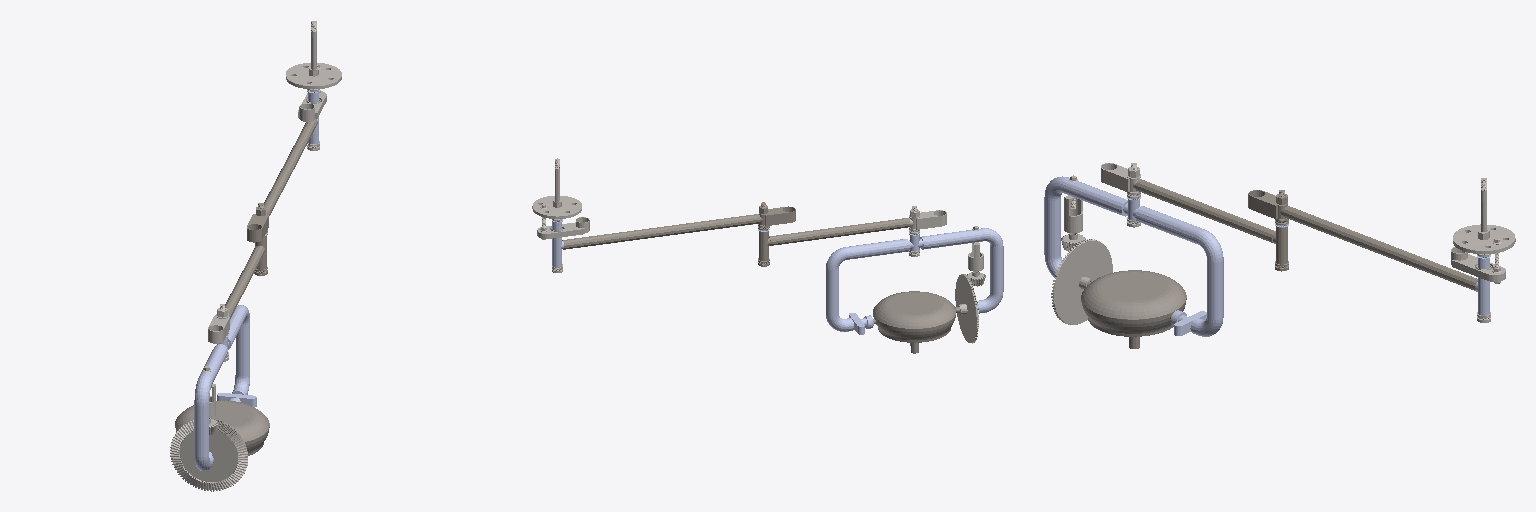
--- Facts derived from the render (not from the file) ---
Views: 3 orthographic renders of the robot side by side, from view 1: azimuth 30°, elevation 25°; view 2: azimuth 150°, elevation 25°; view 3: azimuth 270°, elevation 25°.
Robot: ot_model — 18 links, 17 joints (5 revolute, 12 fixed); root link world; default pose: every joint at zero.
Links seen in each view (by area): view 1: gimbal, crown, base_link, light, pipe2, pipe4, fixedset1, fixedset2; view 2: gimbal, light, pipe2, base_link, pipe4, crown, fixedset2, fixedset1; view 3: gimbal, light, crown, base_link, pipe2, pipe4, fixedset1, fixedset2, motorholder, pipe1.
Boxes of the visible links, bbox=[...] form: gimbal: bbox=[194, 305, 256, 470]; crown: bbox=[170, 419, 247, 491]; base_link: bbox=[286, 21, 341, 150]; light: bbox=[175, 400, 269, 455]; pipe2: bbox=[264, 119, 317, 215]; pipe4: bbox=[225, 246, 264, 318]; fixedset1: bbox=[247, 203, 268, 275]; fixedset2: bbox=[208, 304, 229, 361]; gimbal: bbox=[826, 228, 1003, 334]; light: bbox=[873, 291, 959, 353]; pipe2: bbox=[562, 214, 759, 249]; base_link: bbox=[532, 158, 589, 272]; pipe4: bbox=[769, 218, 909, 245]; crown: bbox=[955, 274, 978, 343]; fixedset2: bbox=[909, 206, 946, 256]; fixedset1: bbox=[758, 202, 795, 266]; gimbal: bbox=[1044, 176, 1223, 336]; light: bbox=[1081, 270, 1186, 348]; crown: bbox=[1051, 239, 1112, 324]; base_link: bbox=[1451, 178, 1515, 322]; pipe2: bbox=[1283, 206, 1477, 291]; pipe4: bbox=[1135, 179, 1275, 243]; fixedset1: bbox=[1248, 190, 1288, 271]; fixedset2: bbox=[1101, 163, 1140, 227]; motorholder: bbox=[1064, 175, 1082, 233]; pipe1: bbox=[1475, 258, 1489, 315].
Bounding box of the posed robot: 1.17 × 1.27 × 0.9033 m (x, y, z).
Meshes: 17 distinct files referenced, 17 mesh visuals loaded (17 binary STL).

robot.urdf — ot_model:
<?xml version="1.0" encoding="utf-8"?>
<!-- This URDF was automatically created by SolidWorks to URDF Exporter! Originally created by Stephen Brawner ([email redacted]) 
     Commit Version: 1.6.0-1-g15f4949  Build Version: 1.6.7594.29634
     For more information, please see http://wiki.ros.org/sw_urdf_exporter -->  
<robot
  name="ot_model">
  <link
    name="base_link">
    <inertial>
      <origin
        xyz="-1.9319 0.048235 -0.48431"
        rpy="0 0 0" />
      <mass
        value="0.53942" />
      <inertia
        ixx="0.0021749"
        ixy="-4.1073E-06"
        ixz="-0.00016657"
        iyy="0.0012304"
        iyz="-4.4453E-06"
        izz="0.002148" />
    </inertial>
    <visual>
      <origin
        xyz="0 0 0"
        rpy="0 0 0" />
      <geometry>
        <mesh
          filename="package://OTEditedwithCam-URDF/meshes/base_link.STL" />
        <!-- <cylinder radius="0.0165" length="0.42"/> -->
      </geometry>
      <material
        name="">
        <color
          rgba="0.77647 0.75686 0.73725 1" />
      </material>
    </visual>
    <collision>
      <origin
        xyz="0 0 0"
        rpy="0 0 0" />
      <geometry>
        <mesh
          filename="package://OTEditedwithCam-URDF/meshes/base_link.STL" />
      </geometry>
    </collision>
  </link>
  <link
    name="pipe1">
    <inertial>
      <origin
        xyz="0.002116 -8.3286E-08 0.085639"
        rpy="0 0 0" />
      <mass
        value="0.036515" />
      <inertia
        ixx="8.7543E-05"
        ixy="4.8938E-11"
        ixz="-7.2263E-07"
        iyy="8.9539E-05"
        iyz="7.2658E-11"
        izz="1.1438E-05" />
    </inertial>
    <visual>
      <origin
        xyz="0 0 0"
        rpy="0 0 0" />
      <geometry>
        <mesh
          filename="package://OTEditedwithCam-URDF/meshes/pipe1.STL" />
      </geometry>
      <material
        name="">
        <color
          rgba="0.79216 0.81961 0.93333 1" />
      </material>
    </visual>
    <collision>
      <origin
        xyz="0 0 0"
        rpy="0 0 0" />
      <geometry>
        <mesh
          filename="package://OTEditedwithCam-URDF/meshes/pipe1.STL" />
      </geometry>
    </collision>
  </link>
  <joint
    name="base_pipe1"
    type="revolute">
    <origin
      xyz="-1.9294 0.48153 0.0543"
      rpy="0 0 2.3113" />
    <parent
      link="base_link" />
    <child
      link="pipe1" />
    <axis
      xyz="0 0 1" />
    <limit
      lower="-5"
      upper="5"
      effort="100"
      velocity="0" />
  </joint>
  <link
    name="gear1">
    <inertial>
      <origin
        xyz="-6.6327E-12 2.4896E-12 0.00080015"
        rpy="0 0 0" />
      <mass
        value="0.0049482" />
      <inertia
        ixx="7.1988E-07"
        ixy="4.4999E-22"
        ixz="9.4329E-23"
        iyy="7.1988E-07"
        iyz="-2.2089E-22"
        izz="1.1757E-06" />
    </inertial>
    <visual>
      <origin
        xyz="0 0 0"
        rpy="0 0 0" />
      <geometry>
        <mesh
          filename="package://OTEditedwithCam-URDF/meshes/gear1.STL" />
      </geometry>
      <material
        name="">
        <color
          rgba="0.79216 0.81961 0.93333 1" />
      </material>
    </visual>
    <collision>
      <origin
        xyz="0 0 0"
        rpy="0 0 0" />
      <geometry>
        <mesh
          filename="package://OTEditedwithCam-URDF/meshes/gear1.STL" />
      </geometry>
    </collision>
  </link>
  <joint
    name="pipe1_gear1"
    type="fixed">
    <origin
      xyz="0 0 0"
      rpy="3.1416 0 1.2117" />
    <parent
      link="pipe1" />
    <child
      link="gear1" />
    <axis
      xyz="0 0 0" />
  </joint>
  <link
    name="pipe2">
    <inertial>
      <origin
        xyz="1.8463E-13 7.2431E-13 0.35"
        rpy="0 0 0" />
      <mass
        value="0.14074" />
      <inertia
        ixx="0.0057651"
        ixy="-9.2157E-19"
        ixz="2.7889E-15"
        iyy="0.0057651"
        iyz="1.1277E-14"
        izz="3.6171E-05" />
    </inertial>
    <visual>
      <origin
        xyz="0 0 0"
        rpy="0 0 0" />
      <geometry>
        <mesh
          filename="package://OTEditedwithCam-URDF/meshes/pipe2.STL" />
      </geometry>
      <material
        name="">
        <color
          rgba="0.64706 0.61961 0.58824 1" />
      </material>
    </visual>
    <collision>
      <origin
        xyz="0 0 0"
        rpy="0 0 0" />
      <geometry>
        <mesh
          filename="package://OTEditedwithCam-URDF/meshes/pipe2.STL" />
      </geometry>
    </collision>
  </link>
  <joint
    name="pipe1_pipe2"
    type="fixed">
    <origin
      xyz="0.71934 0 0.095"
      rpy="-1.5708 -1.3246 1.5708" />
    <parent
      link="pipe1" />
    <child
      link="pipe2" />
    <axis
      xyz="0 0 0" />
  </joint>
  <link
    name="fixedset1">
    <inertial>
      <origin
        xyz="-0.025184 -1.1049E-07 -0.0015356"
        rpy="0 0 0" />
      <mass
        value="0.25958" />
      <inertia
        ixx="0.00032322"
        ixy="-2.2165E-10"
        ixz="-6.2789E-06"
        iyy="0.00045517"
        iyz="2.8979E-09"
        izz="0.00021021" />
    </inertial>
    <visual>
      <origin
        xyz="0 0 0"
        rpy="0 0 0" />
      <geometry>
        <mesh
          filename="package://OTEditedwithCam-URDF/meshes/fixedset1.STL" />
      </geometry>
      <material
        name="">
        <color
          rgba="0.64706 0.61961 0.58824 1" />
      </material>
    </visual>
    <collision>
      <origin
        xyz="0 0 0"
        rpy="0 0 0" />
      <geometry>
        <mesh
          filename="package://OTEditedwithCam-URDF/meshes/fixedset1.STL" />
      </geometry>
    </collision>
  </link>
  <joint
    name="pipe2_fixedset1"
    type="fixed">
    <origin
      xyz="0.019541 -0.0049099 -0.018607"
      rpy="1.568 -1.5708 -1.8142" />
    <parent
      link="pipe2" />
    <child
      link="fixedset1" />
    <axis
      xyz="0 0 0" />
  </joint>
  <link
    name="pipe3">
    <inertial>
      <origin
        xyz="0.0015452 5.3889E-09 -0.05494"
        rpy="0 0 0" />
      <mass
        value="0.080239" />
      <inertia
        ixx="8.5758E-05"
        ixy="4.5267E-12"
        ixz="-1.1269E-06"
        iyy="8.8667E-05"
        iyz="-5.5402E-11"
        izz="1.7543E-05" />
    </inertial>
    <visual>
      <origin
        xyz="0 0 0"
        rpy="0 0 0" />
      <geometry>
        <mesh
          filename="package://OTEditedwithCam-URDF/meshes/pipe3.STL" />
      </geometry>
      <material
        name="">
        <color
          rgba="0.64706 0.61961 0.58824 1" />
      </material>
    </visual>
    <collision>
      <origin
        xyz="0 0 0"
        rpy="0 0 0" />
      <geometry>
        <mesh
          filename="package://OTEditedwithCam-URDF/meshes/pipe3.STL" />
      </geometry>
    </collision>
  </link>
  <joint
    name="fixedset1_pipe3"
    type="revolute">
    <origin
      xyz="0 0 -0.024"
      rpy="0 0 -3.1412" />
    <parent
      link="fixedset1" />
    <child
      link="pipe3" />
    <axis
      xyz="0 0 1" />
    <limit
      lower="-5"
      upper="5"
      effort="100"
      velocity="0" />
  </joint>
  <link
    name="gear2">
    <inertial>
      <origin
        xyz="-4.4409E-16 -3.3307E-16 0.00080015"
        rpy="0 0 0" />
      <mass
        value="0.0049482" />
      <inertia
        ixx="7.1988E-07"
        ixy="4.7646E-22"
        ixz="-2.9163E-22"
        iyy="7.1988E-07"
        iyz="-6.6404E-22"
        izz="1.1757E-06" />
    </inertial>
    <visual>
      <origin
        xyz="0 0 0"
        rpy="0 0 0" />
      <geometry>
        <mesh
          filename="package://OTEditedwithCam-URDF/meshes/gear2.STL" />
      </geometry>
      <material
        name="">
        <color
          rgba="0.79216 0.81961 0.93333 1" />
      </material>
    </visual>
    <collision>
      <origin
        xyz="0 0 0"
        rpy="0 0 0" />
      <geometry>
        <mesh
          filename="package://OTEditedwithCam-URDF/meshes/gear2.STL" />
      </geometry>
    </collision>
  </link>
  <joint
    name="pipe3_gear2"
    type="fixed">
    <origin
      xyz="0 0 0"
      rpy="0 0 2.8353" />
    <parent
      link="pipe3" />
    <child
      link="gear2" />
    <axis
      xyz="0 0 0" />
  </joint>
  <link
    name="pipe4">
    <inertial>
      <origin
        xyz="3.5527E-15 1.6931E-15 0.25"
        rpy="0 0 0" />
      <mass
        value="0.10053" />
      <inertia
        ixx="0.0021073"
        ixy="-3.5237E-19"
        ixz="-2.6394E-17"
        iyy="0.0021073"
        iyz="-1.2634E-17"
        izz="2.5836E-05" />
    </inertial>
    <visual>
      <origin
        xyz="0 0 0"
        rpy="0 0 0" />
      <geometry>
        <mesh
          filename="package://OTEditedwithCam-URDF/meshes/pipe4.STL" />
      </geometry>
      <material
        name="">
        <color
          rgba="0.64706 0.61961 0.58824 1" />
      </material>
    </visual>
    <collision>
      <origin
        xyz="0 0 0"
        rpy="0 0 0" />
      <geometry>
        <mesh
          filename="package://OTEditedwithCam-URDF/meshes/pipe4.STL" />
      </geometry>
    </collision>
  </link>
  <joint
    name="pipe3_pipe4"
    type="fixed">
    <origin
      xyz="0.52 0 -0.045851"
      rpy="-1.5708 -0.2902 1.5708" />
    <parent
      link="pipe3" />
    <child
      link="pipe4" />
    <axis
      xyz="0 0 0" />
  </joint>
  <link
    name="fixedset2">
    <inertial>
      <origin
        xyz="0.012423 0.022975 -0.012419"
        rpy="0 0 0" />
      <mass
        value="0.25029" />
      <inertia
        ixx="0.00029389"
        ixy="-5.5206E-05"
        ixz="2.9847E-06"
        iyy="0.00022164"
        iyz="5.5266E-06"
        izz="0.00021029" />
    </inertial>
    <visual>
      <origin
        xyz="0 0 0"
        rpy="0 0 0" />
      <geometry>
        <mesh
          filename="package://OTEditedwithCam-URDF/meshes/fixedset2.STL" />
      </geometry>
      <material
        name="">
        <color
          rgba="0.77647 0.75686 0.73725 1" />
      </material>
    </visual>
    <collision>
      <origin
        xyz="0 0 0"
        rpy="0 0 0" />
      <geometry>
        <mesh
          filename="package://OTEditedwithCam-URDF/meshes/fixedset2.STL" />
      </geometry>
    </collision>
  </link>
  <joint
    name="pipe4_fixedset2"
    type="fixed">
    <origin
      xyz="0 0 -0.02"
      rpy="-1.5708 0.49569 -2.8514" />
    <parent
      link="pipe4" />
    <child
      link="fixedset2" />
    <axis
      xyz="0 0 -1" />
    <limit
      lower="-5"
      upper="5"
      effort="100"
      velocity="0" />
  </joint>
  <link
    name="pipe5">
    <inertial>
      <origin
        xyz="-5.7425E-08 -1.9798E-08 0.033278"
        rpy="0 0 0" />
      <mass
        value="0.017945" />
      <inertia
        ixx="6.984E-06"
        ixy="6.7418E-11"
        ixz="7.7363E-11"
        iyy="1.134E-05"
        iyz="1.985E-11"
        izz="8.9877E-06" />
    </inertial>
    <visual>
      <origin
        xyz="0 0 0"
        rpy="0 0 0" />
      <geometry>
        <mesh
          filename="package://OTEditedwithCam-URDF/meshes/pipe5.STL" />
      </geometry>
      <material
        name="">
        <color
          rgba="0.79216 0.81961 0.93333 1" />
      </material>
    </visual>
    <collision>
      <origin
        xyz="0 0 0"
        rpy="0 0 0" />
      <geometry>
        <mesh
          filename="package://OTEditedwithCam-URDF/meshes/pipe5.STL" />
      </geometry>
    </collision>
  </link>
  <joint
    name="fixedset2_pipe5"
    type="revolute">
    <origin
      xyz="0 0 -0.044149"
      rpy="3.1416 0 1.0807" />
    <parent
      link="fixedset2" />
    <child
      link="pipe5" />
    <axis
      xyz="0 0 1" />
    <limit
      lower="-5"
      upper="5"
      effort="100"
      velocity="0" />
  </joint>
  <link
    name="gear3">
    <inertial>
      <origin
        xyz="2.2204E-16 0 0.00080015"
        rpy="0 0 0" />
      <mass
        value="0.0049482" />
      <inertia
        ixx="7.1988E-07"
        ixy="-8.6523E-22"
        ixz="1.0427E-22"
        iyy="7.1988E-07"
        iyz="-1.2599E-21"
        izz="1.1757E-06" />
    </inertial>
    <visual>
      <origin
        xyz="0 0 0"
        rpy="0 0 0" />
      <geometry>
        <mesh
          filename="package://OTEditedwithCam-URDF/meshes/gear3.STL" />
      </geometry>
      <material
        name="">
        <color
          rgba="0.79216 0.81961 0.93333 1" />
      </material>
    </visual>
    <collision>
      <origin
        xyz="0 0 0"
        rpy="0 0 0" />
      <geometry>
        <mesh
          filename="package://OTEditedwithCam-URDF/meshes/gear3.STL" />
      </geometry>
    </collision>
  </link>
  <joint
    name="pipe5_gear3"
    type="fixed">
    <origin
      xyz="0 0 0"
      rpy="3.1416 0 -0.71066" />
    <parent
      link="pipe5" />
    <child
      link="gear3" />
    <axis
      xyz="0 0 0" />
  </joint>
  <link
    name="gimbal">
    <inertial>
      <origin
        xyz="-0.0018248 -0.10577 2.455E-07"
        rpy="0 0 0" />
      <mass
        value="1.1121" />
      <inertia
        ixx="0.010599"
        ixy="1.7429E-05"
        ixz="1.3832E-08"
        iyy="0.0074451"
        iyz="1.3488E-08"
        izz="0.017492" />
    </inertial>
    <visual>
      <origin
        xyz="0 0 0"
        rpy="0 0 0" />
      <geometry>
        <mesh
          filename="package://OTEditedwithCam-URDF/meshes/gimbal.STL" />
      </geometry>
      <material
        name="">
        <color
          rgba="0.79216 0.81961 0.93333 1" />
      </material>
    </visual>
    <collision>
      <origin
        xyz="0 0 0"
        rpy="0 0 0" />
      <geometry>
        <mesh
          filename="package://OTEditedwithCam-URDF/meshes/gimbal.STL" />
      </geometry>
    </collision>
  </link>
  <joint
    name="pipe5_gimbal"
    type="fixed">
    <origin
      xyz="-0.025 0 0.04"
      rpy="-1.5708 0 -3.1416" />
    <parent
      link="pipe5" />
    <child
      link="gimbal" />
    <axis
      xyz="0 0 0" />
  </joint>
  <link
    name="motorholder">
    <inertial>
      <origin
        xyz="0.074036 1.5995E-10 0"
        rpy="0 0 0" />
      <mass
        value="0.069394" />
      <inertia
        ixx="3.0567E-05"
        ixy="3.5192E-13"
        ixz="-6.305E-22"
        iyy="7.4186E-05"
        iyz="2.5797E-06"
        izz="7.6647E-05" />
    </inertial>
    <visual>
      <origin
        xyz="0 0 0"
        rpy="0 0 0" />
      <geometry>
        <mesh
          filename="package://OTEditedwithCam-URDF/meshes/motorholder.STL" />
      </geometry>
      <material
        name="">
        <color
          rgba="0.77647 0.75686 0.73725 1" />
      </material>
    </visual>
    <collision>
      <origin
        xyz="0 0 0"
        rpy="0 0 0" />
      <geometry>
        <mesh
          filename="package://OTEditedwithCam-URDF/meshes/motorholder.STL" />
      </geometry>
    </collision>
  </link>
  <joint
    name="gimbal_motorholder"
    type="fixed">
    <origin
      xyz="-0.245 0 0"
      rpy="2.2555 0 -1.5708" />
    <parent
      link="gimbal" />
    <child
      link="motorholder" />
    <axis
      xyz="-1 0 0" />
  </joint>
  <link
    name="pinion">
    <inertial>
      <origin
        xyz="0.026639 6.9612E-11 -2.7992E-10"
        rpy="0 0 0" />
      <mass
        value="0.061916" />
      <inertia
        ixx="2.5323E-05"
        ixy="-1.1125E-13"
        ixz="-6.1651E-14"
        iyy="1.7943E-05"
        iyz="-1.0817E-13"
        izz="1.7943E-05" />
    </inertial>
    <visual>
      <origin
        xyz="0 0 0"
        rpy="0 0 0" />
      <geometry>
        <mesh
          filename="package://OTEditedwithCam-URDF/meshes/pinion.STL" />
      </geometry>
      <material
        name="">
        <color
          rgba="0.77647 0.75686 0.73725 1" />
      </material>
    </visual>
    <collision>
      <origin
        xyz="0 0 0"
        rpy="0 0 0" />
      <geometry>
        <mesh
          filename="package://OTEditedwithCam-URDF/meshes/pinion.STL" />
      </geometry>
    </collision>
  </link>
  <joint
    name="motorholder_pinion"
    type="revolute">
    <origin
      xyz="0.135 0 0"
      rpy="2.4286 0 0" />
    <parent
      link="motorholder" />
    <child
      link="pinion" />
    <axis
      xyz="-1 0 0" />
    <limit
      lower="-5"
      upper="5"
      effort="100"
      velocity="0" />
  </joint>
  <link
    name="crown">
    <inertial>
      <origin
        xyz="0.0041166 -9.3811E-10 1.6122E-09"
        rpy="0 0 0" />
      <mass
        value="0.39289" />
      <inertia
        ixx="0.0026625"
        ixy="9.596E-12"
        ixz="-3.411E-12"
        iyy="0.001338"
        iyz="3.6199E-11"
        izz="0.001338" />
    </inertial>
    <visual>
      <origin
        xyz="0 0 0"
        rpy="0 0 0" />
      <geometry>
        <mesh
          filename="package://OTEditedwithCam-URDF/meshes/crown.STL" />
      </geometry>
      <material
        name="">
        <color
          rgba="0.77647 0.75686 0.73725 1" />
      </material>
    </visual>
    <collision>
      <origin
        xyz="0 0 0"
        rpy="0 0 0" />
      <geometry>
        <mesh
          filename="package://OTEditedwithCam-URDF/meshes/crown.STL" />
      </geometry>
    </collision>
  </link>
  <joint
    name="pinion_crown"
    type="fixed">
    <origin
      xyz="0.135 -0.0010128 0.035878"
      rpy="-2.3474 1.5426 1.5708" />
    <parent
      link="pinion" />
    <child
      link="crown" />
    <axis
      xyz="0 0 0" />
  </joint>
  <link
    name="light">
    <inertial>
      <origin
        xyz="3.5214E-06 1.3401E-08 -0.056305"
        rpy="0 0 0" />
      <mass
        value="4.6914" />
      <inertia
        ixx="0.023829"
        ixy="2.477E-10"
        ixz="-3.1295E-08"
        iyy="0.024114"
        iyz="-2.1737E-10"
        izz="0.041996" />
    </inertial>
    <visual>
      <origin
        xyz="0 0 0"
        rpy="0 0 0" />
      <geometry>
        <mesh
          filename="package://OTEditedwithCam-URDF/meshes/light.STL" />
      </geometry>
      <material
        name="">
        <color
          rgba="0.64706 0.61961 0.6 1" />
      </material>
    </visual>
    <collision>
      <origin
        xyz="0 0 0"
        rpy="0 0 0" />
      <geometry>
        <mesh
          filename="package://OTEditedwithCam-URDF/meshes/light.STL" />
      </geometry>
    </collision>
  </link>
  <joint
    name="crown_light"
    type="fixed">
    <origin
      xyz="-0.18385 0.037673 -0.039369"
      rpy="-2.3782 0 0" />
    <parent
      link="crown" />
    <child
      link="light" />
    <axis
      xyz="0 0 0" />
  </joint>
  <link
    name="linkconnect">
    <inertial>
      <origin
        xyz="4.4409E-16 5.5511E-17 0.048212"
        rpy="0 0 0" />
      <mass
        value="0.021991" />
      <inertia
        ixx="9.5295E-06"
        ixy="7.4115E-22"
        ixz="3.9546E-20"
        iyy="9.5295E-06"
        iyz="-3.3683E-20"
        izz="1.0996E-06" />
    </inertial>
    <visual>
      <origin
        xyz="0 0 0"
        rpy="0 0 0" />
      <geometry>
        <mesh
          filename="package://OTEditedwithCam-URDF/meshes/linkconnect.STL" />
      </geometry>
      <material
        name="">
        <color
          rgba="0.79216 0.81961 0.93333 1" />
      </material>
    </visual>
    <collision>
      <origin
        xyz="0 0 0"
        rpy="0 0 0" />
      <geometry>
        <mesh
          filename="package://OTEditedwithCam-URDF/meshes/linkconnect.STL" />
      </geometry>
    </collision>
  </link>
  <joint
    name="gimbal_linkconnect"
    type="revolute">
    <origin
      xyz="-0.17473 -0.27 0"
      rpy="1.5708 1.1363 -1.5708" />
    <parent
      link="gimbal" />
    <child
      link="linkconnect" />
    <axis
      xyz="0 0 1" />
    <limit
      lower="-5"
      upper="5"
      effort="100"
      velocity="0" />
  </joint>

  <link name="world" />
  <joint name="ceiling_joint" type="fixed">
    <origin xyz="2 2 1.5" rpy=" 3.14159 0 0" />
    <parent link="world" />
    <child link="base_link" />
  </joint>
  <transmission name="tran_base_pipe1">
      <type>transmission_interface/SimpleTransmission</type>
      <joint name="base_pipe1">
          <hardwareInterface>EffortJointInterface</hardwareInterface>
      </joint>
      <actuator name="act_base_pipe1">
          <hardwareInterface>EffortJointInterface</hardwareInterface>
          <mechanicalReduction>1</mechanicalReduction>
      </actuator>
  </transmission> 
              
  <!-- <transmission name="tran_pipe1_gear1">
      <type>transmission_interface/SimpleTransmission</type>
      <joint name="pipe1_gear1">
          <hardwareInterface>EffortJointInterface</hardwareInterface>
      </joint>
      <actuator name="act_pipe1_gear1">
          <hardwareInterface>EffortJointInterface</hardwareInterface>
          <mechanicalReduction>1</mechanicalReduction>
      </actuator>
  </transmission>  -->
              
  <!-- <transmission name="tran_pipe1_pipe2">
      <type>transmission_interface/SimpleTransmission</type>
      <joint name="pipe1_pipe2">
          <hardwareInterface>EffortJointInterface</hardwareInterface>
      </joint>
      <actuator name="act_pipe1_pipe2">
          <hardwareInterface>EffortJointInterface</hardwareInterface>
          <mechanicalReduction>1</mechanicalReduction>
      </actuator>
  </transmission>  -->
              
  <!-- <transmission name="tran_pipe2_fixedset1">
      <type>transmission_interface/SimpleTransmission</type>
      <joint name="pipe2_fixedset1">
          <hardwareInterface>EffortJointInterface</hardwareInterface>
      </joint>
      <actuator name="act_pipe2_fixedset1">
          <hardwareInterface>EffortJointInterface</hardwareInterface>
          <mechanicalReduction>1</mechanicalReduction>
      </actuator>
  </transmission>  -->
              
  <transmission name="tran_fixedset1_pipe3">
      <type>transmission_interface/SimpleTransmission</type>
      <joint name="fixedset1_pipe3">
          <hardwareInterface>EffortJointInterface</hardwareInterface>
      </joint>
      <actuator name="act_fixedset1_pipe3">
          <hardwareInterface>EffortJointInterface</hardwareInterface>
          <mechanicalReduction>1</mechanicalReduction>
      </actuator>
  </transmission> 
              
  <!-- <transmission name="tran_pipe3_gear2">
      <type>transmission_interface/SimpleTransmission</type>
      <joint name="pipe3_gear2">
          <hardwareInterface>EffortJointInterface</hardwareInterface>
      </joint>
      <actuator name="act_pipe3_gear2">
          <hardwareInterface>EffortJointInterface</hardwareInterface>
          <mechanicalReduction>1</mechanicalReduction>
      </actuator>
  </transmission>  -->
              
  <!-- <transmission name="tran_pipe3_pipe4">
      <type>transmission_interface/SimpleTransmission</type>
      <joint name="pipe3_pipe4">
          <hardwareInterface>EffortJointInterface</hardwareInterface>
      </joint>
      <actuator name="act_pipe3_pipe4">
          <hardwareInterface>EffortJointInterface</hardwareInterface>
          <mechanicalReduction>1</mechanicalReduction>
      </actuator>
  </transmission>  -->
              
  <!-- <transmission name="tran_pipe4_fixedset2">
      <type>transmission_interface/SimpleTransmission</type>
      <joint name="pipe4_fixedset2">
          <hardwareInterface>EffortJointInterface</hardwareInterface>
      </joint>
      <actuator name="act_pipe4_fixedset2">
          <hardwareInterface>EffortJointInterface</hardwareInterface>
          <mechanicalReduction>1</mechanicalReduction>
      </actuator>
  </transmission>  -->
              
  <transmission name="tran_fixedset2_pipe5">
      <type>transmission_interface/SimpleTransmission</type>
      <joint name="fixedset2_pipe5">
          <hardwareInterface>EffortJointInterface</hardwareInterface>
      </joint>
      <actuator name="act_fixedset2_pipe5">
          <hardwareInterface>EffortJointInterface</hardwareInterface>
          <mechanicalReduction>1</mechanicalReduction>
      </actuator>
  </transmission> 
              
  <!-- <transmission name="tran_pipe5_gear3">
      <type>transmission_interface/SimpleTransmission</type>
      <joint name="pipe5_gear3">
          <hardwareInterface>EffortJointInterface</hardwareInterface>
      </joint>
      <actuator name="act_pipe5_gear3">
          <hardwareInterface>EffortJointInterface</hardwareInterface>
          <mechanicalReduction>1</mechanicalReduction>
      </actuator>
  </transmission>  -->
              
  <!-- <transmission name="tran_pipe5_gimbal">
      <type>transmission_interface/SimpleTransmission</type>
      <joint name="pipe5_gimbal">
          <hardwareInterface>EffortJointInterface</hardwareInterface>
      </joint>
      <actuator name="act_pipe5_gimbal">
          <hardwareInterface>EffortJointInterface</hardwareInterface>
          <mechanicalReduction>1</mechanicalReduction>
      </actuator>
  </transmission> 
               -->
  <!-- <transmission name="tran_gimbal_motorholder">
      <type>transmission_interface/SimpleTransmission</type>
      <joint name="gimbal_motorholder">
          <hardwareInterface>EffortJointInterface</hardwareInterface>
      </joint>
      <actuator name="act_gimbal_motorholder">
          <hardwareInterface>EffortJointInterface</hardwareInterface>
          <mechanicalReduction>1</mechanicalReduction>
      </actuator>
  </transmission>  -->
              
  <transmission name="tran_motorholder_pinion">
      <type>transmission_interface/SimpleTransmission</type>
      <joint name="motorholder_pinion">
          <hardwareInterface>EffortJointInterface</hardwareInterface>
      </joint>
      <actuator name="act_motorholder_pinion">
          <hardwareInterface>EffortJointInterface</hardwareInterface>
          <mechanicalReduction>1</mechanicalReduction>
      </actuator>
  </transmission> 
              
  <!-- <transmission name="tran_pinion_crown">
      <type>transmission_interface/SimpleTransmission</type>
      <joint name="pinion_crown">
          <hardwareInterface>EffortJointInterface</hardwareInterface>
      </joint>
      <actuator name="act_pinion_crown">
          <hardwareInterface>EffortJointInterface</hardwareInterface>
          <mechanicalReduction>1</mechanicalReduction>
      </actuator>
  </transmission>  -->
              
  <!-- <transmission name="tran_crown_light">
      <type>transmission_interface/SimpleTransmission</type>
      <joint name="crown_light">
          <hardwareInterface>EffortJointInterface</hardwareInterface>
      </joint>
      <actuator name="act_crown_light">
          <hardwareInterface>EffortJointInterface</hardwareInterface>
          <mechanicalReduction>1</mechanicalReduction>
      </actuator>
  </transmission>  -->

  <transmission name="tran_gimbal_linkconnect">
      <type>transmission_interface/SimpleTransmission</type>
      <joint name="gimbal_linkconnect">
          <hardwareInterface>EffortJointInterface</hardwareInterface>
      </joint>
      <actuator name="act_gimbal_linkconnect">
          <hardwareInterface>EffortJointInterface</hardwareInterface>
          <mechanicalReduction>1</mechanicalReduction>
      </actuator>
  </transmission> 
            
  <gazebo>
    <plugin name="gazebo_ros_control" filename="libgazebo_ros_control.so">
      <robotNamespace>/ot_model</robotNamespace>
    </plugin>
  </gazebo>
    
</robot>
